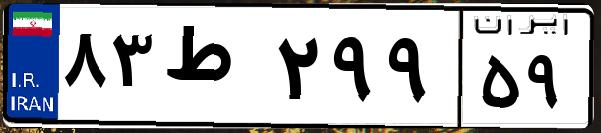2: (270, 28, 330, 110)
3: (110, 28, 158, 98)
5: (475, 38, 525, 113)
8: (57, 26, 110, 100)
9: (385, 28, 445, 110), (330, 28, 385, 110), (525, 38, 570, 115)
ط: (158, 20, 270, 120)
